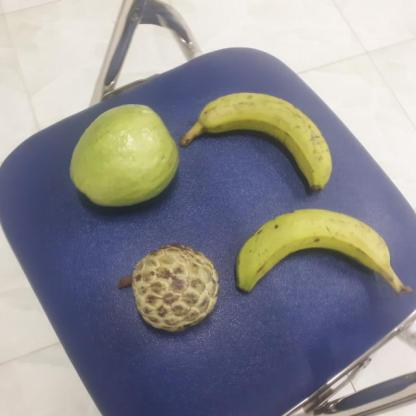annona: (118, 244, 217, 331)
banana: (177, 93, 330, 192), (230, 209, 392, 294)
guava: (65, 108, 179, 207)
